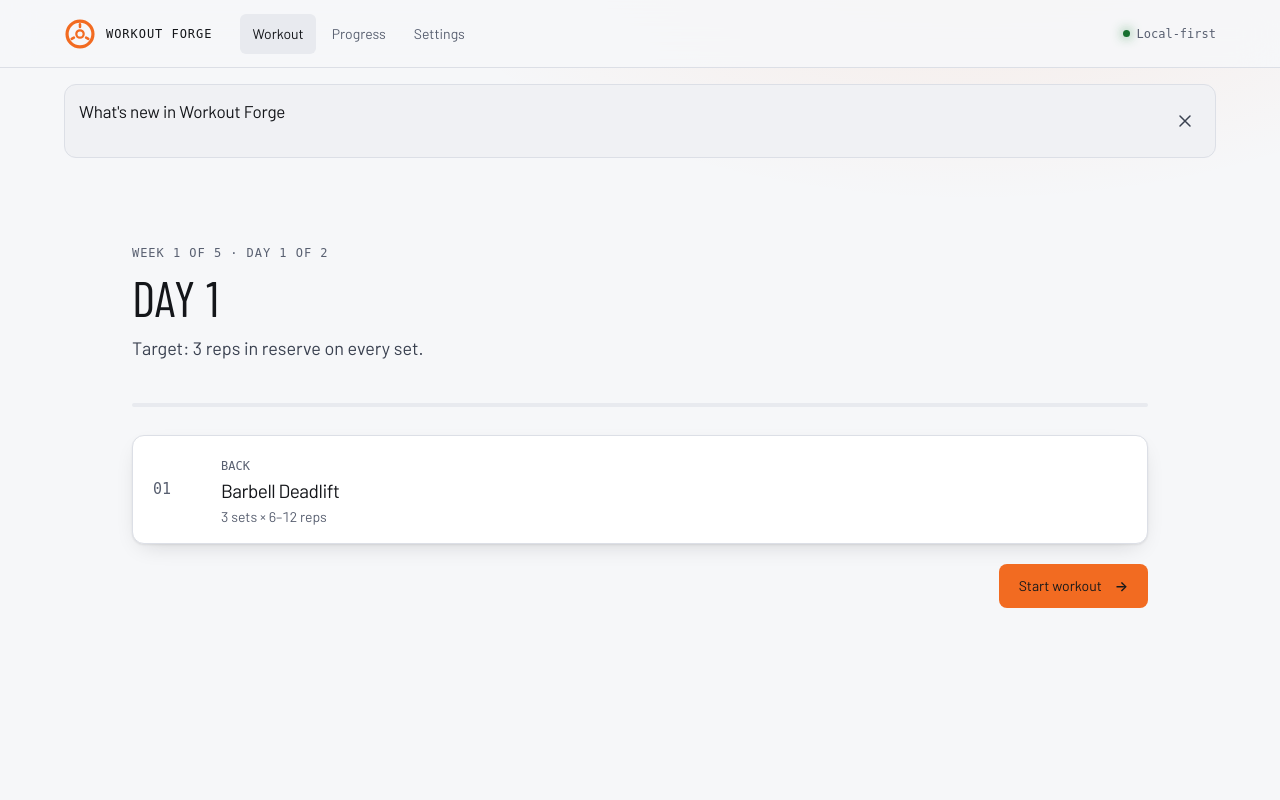
Test: warm-up hint in the session › skips the bar step for the deadlift
Click the button "Start workout →" at (1073, 586), box [999,564,1148,608]
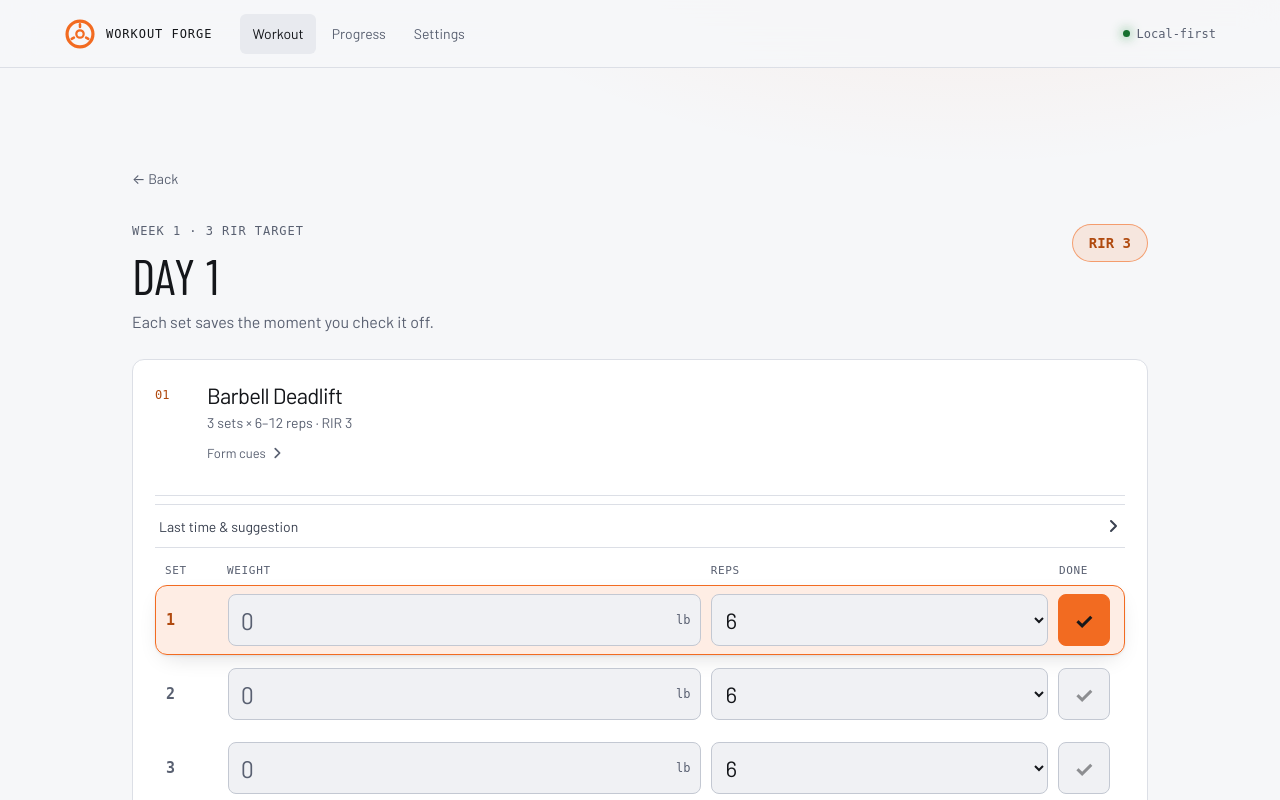
Type "225" into the field named "Set 1 weight" at (464, 620), box [228,594,700,646]
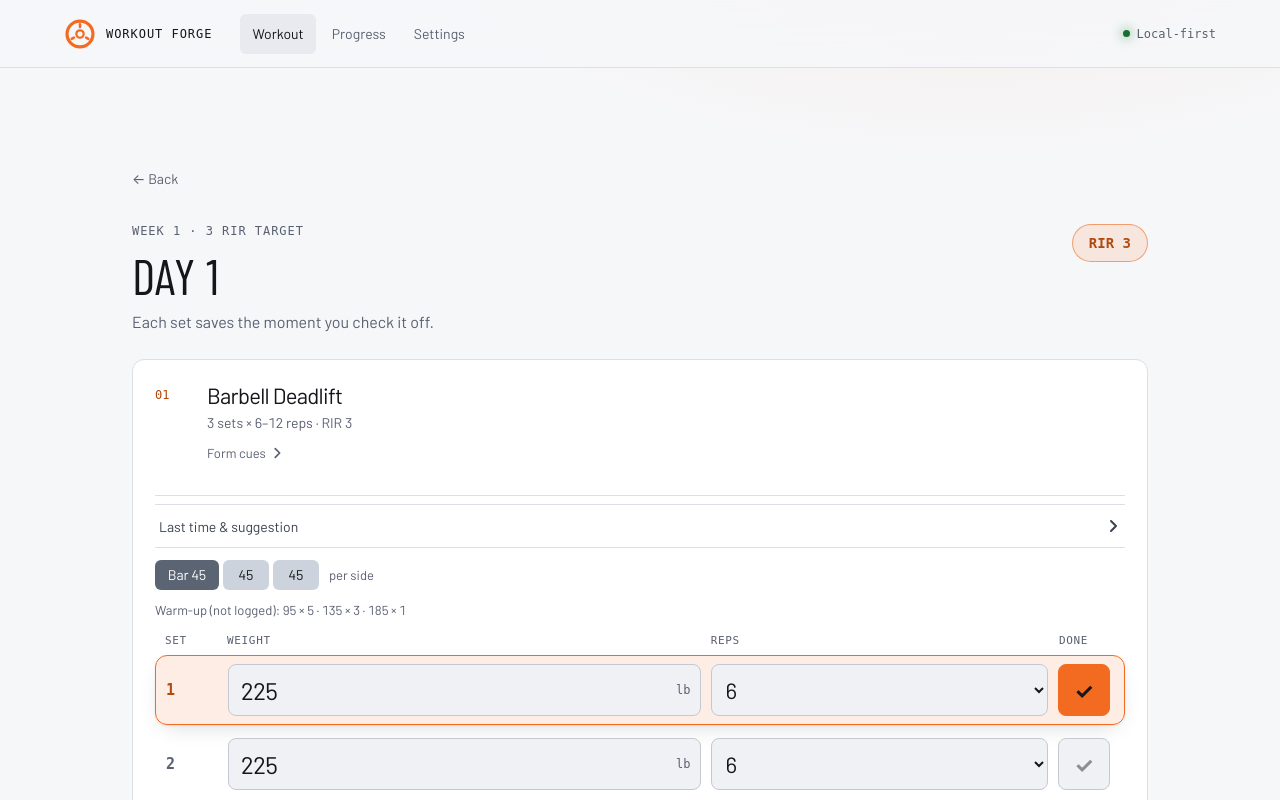
Expected: the text with class "warmup-hint" reads "Warm-up (not logged): 95 × 5 · 135 × 3 · 185 × 1", [155,602,406,618]
